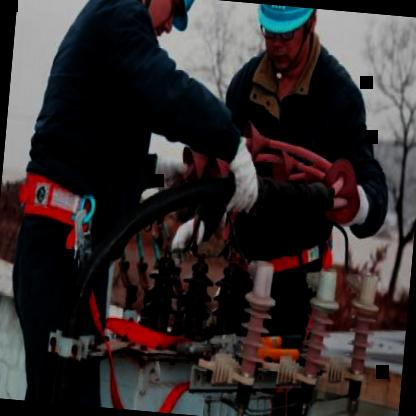helmet: (248, 3, 322, 85), (113, 0, 209, 36)
